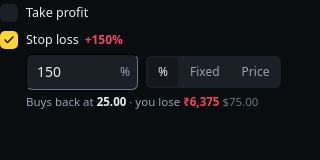
Test: the stop, in percent › [critical] a stop above 100% -- and above the old 300% end of the bar -- is taken
Step 1. Replace the text in the field named "stop percent" with "450" → (82, 72), box [26,54,138,90]
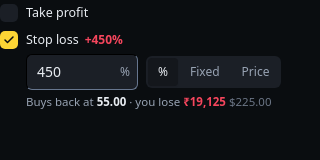
Check: the text "+450%" is shown, box [85,31,123,49]
Check: the text "55.00" is shown, box [97,94,126,108]
